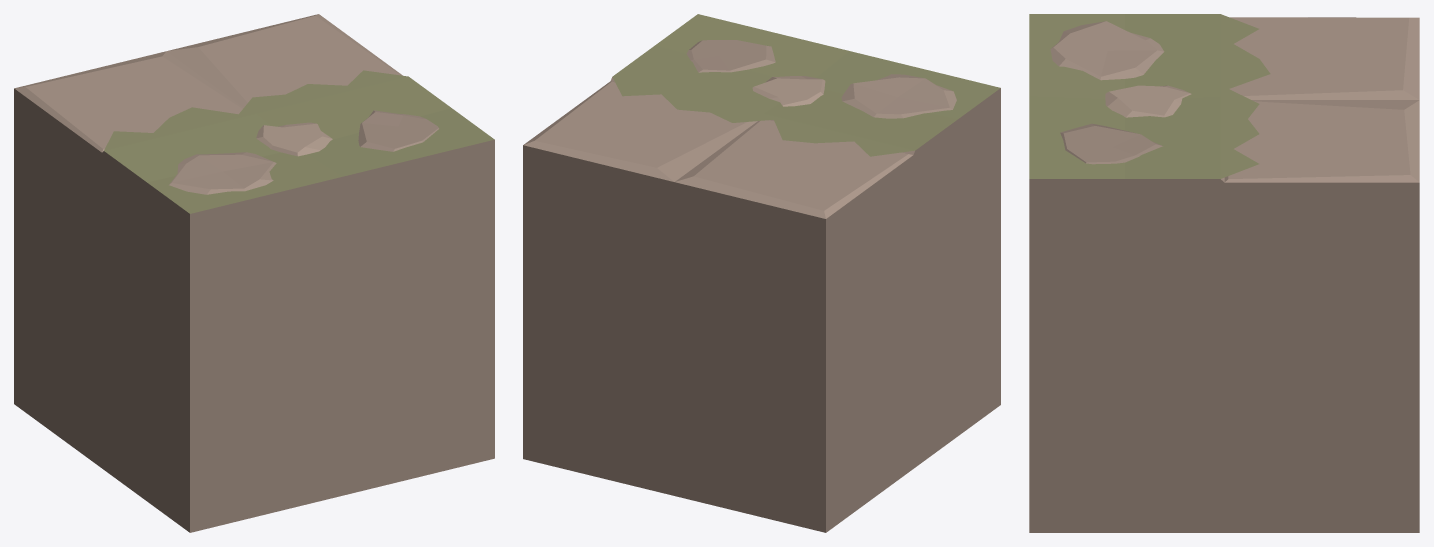
The model's file is Floor_1-2.fbx.
The picture shows the model from 3 angles, left to right: view 1: azimuth 30°, elevation 25°; view 2: azimuth 150°, elevation 25°; view 3: azimuth 270°, elevation 25°; orthographic projection. The views are drawn at different scales.
Visible parts, largest first — view 1: Floor_1-2; view 2: Floor_1-2; view 3: Floor_1-2.
Part boxes in pixels (<box>): Floor_1-2: <box>14,14,494,532</box>; Floor_1-2: <box>523,14,1000,532</box>; Floor_1-2: <box>1029,14,1419,532</box>.
Bounding box in the file's own units: 1 × 1 × 1.
